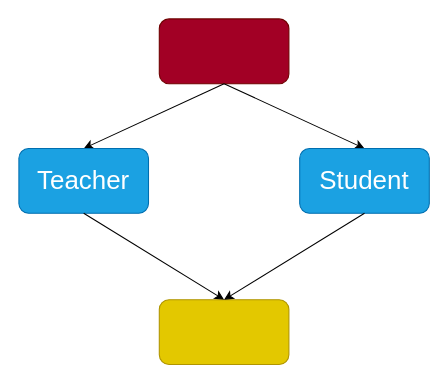
The diagram is 448 pixels wide and 383 high, and some of its shapes have lost their labels. Each missing label, with the centre of its shape:
"Course" belongs at [223,331].
"People" belongs at [223,51].
